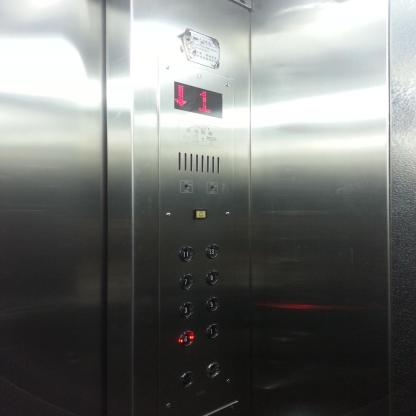1: (206, 323, 220, 339)
11: (179, 246, 195, 261)
13: (205, 243, 220, 260)
3: (179, 302, 194, 318)
5: (206, 296, 220, 312)
7: (179, 274, 194, 289)
9: (205, 270, 220, 285)
G: (178, 330, 195, 346)
alarm: (194, 208, 208, 219)
close: (204, 362, 221, 378)
led: (172, 79, 224, 121)
open: (178, 371, 196, 387)
unknown: (179, 180, 193, 194), (206, 181, 218, 194)
